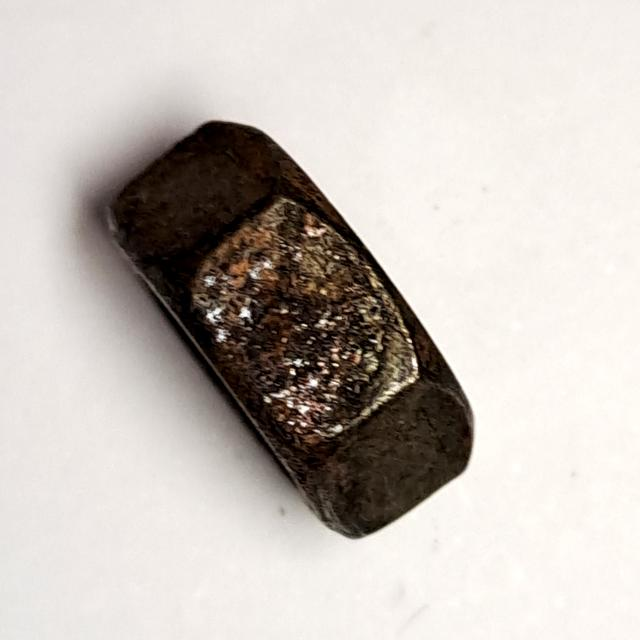Side_Rust: (79, 102, 497, 561)
